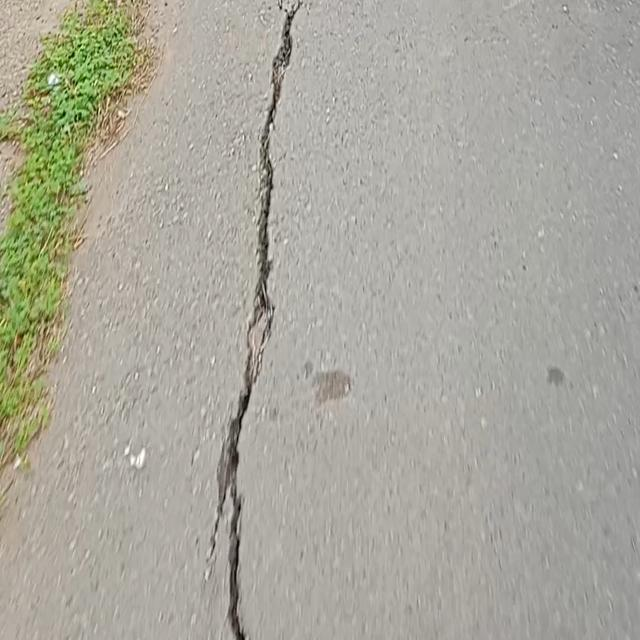Memanjang: (209, 0, 313, 640)
